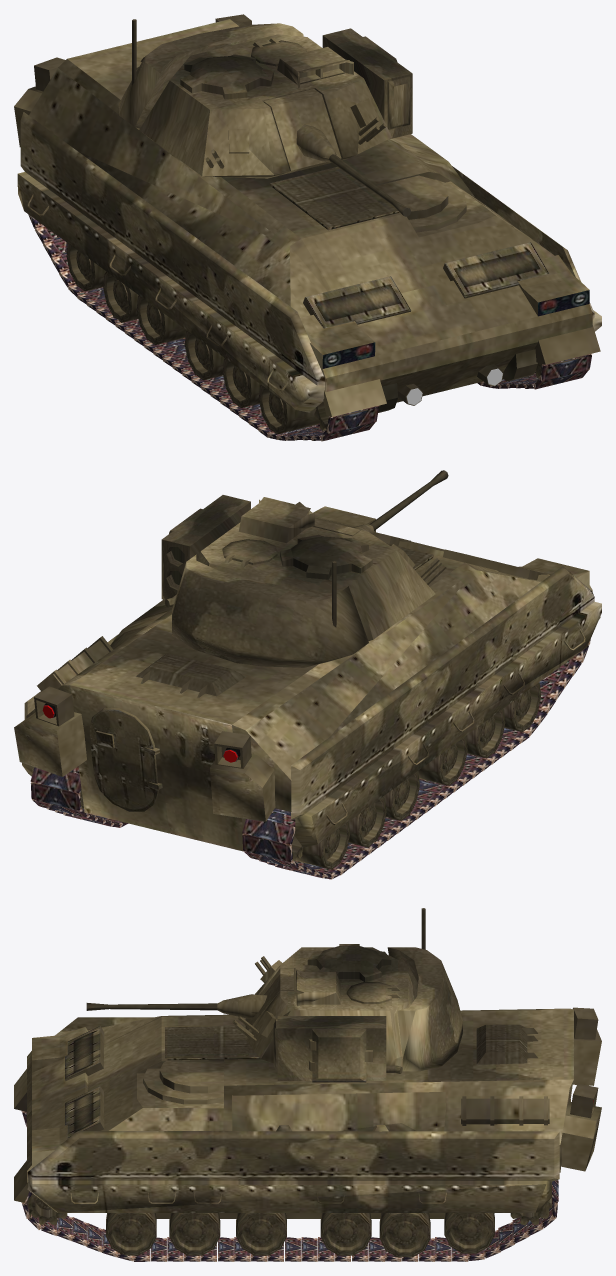
Rendered from Bradley.dae.
3 views of the same model, one above another, from view 1: azimuth 30°, elevation 25°; view 2: azimuth 150°, elevation 25°; view 3: azimuth 270°, elevation 25° (orthographic). The views are drawn at different scales.
Visible parts, largest first — view 1: Hull, Red_Lights, Caterpillar; view 2: Hull, Red_Lights, Caterpillar; view 3: Hull, Red_Lights, Caterpillar.
Boxes of the visible parts, x1,y1,x2,y2 form: Hull: (14, 14, 601, 416); Red_Lights: (118, 19, 412, 216); Caterpillar: (28, 214, 592, 441); Hull: (14, 502, 601, 851); Red_Lights: (161, 470, 448, 667); Caterpillar: (30, 639, 590, 879); Hull: (14, 1007, 601, 1218); Red_Lights: (86, 908, 462, 1082); Caterpillar: (21, 1111, 558, 1261).
Bounding box in the file's own units: 11.56 × 21.89 × 10.45.
Materials: 3 (1 with a texture image).
